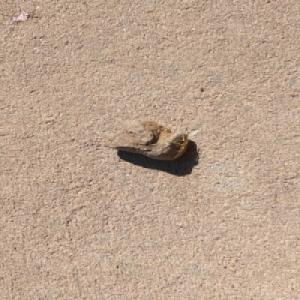Rock: (101, 119, 189, 160)
